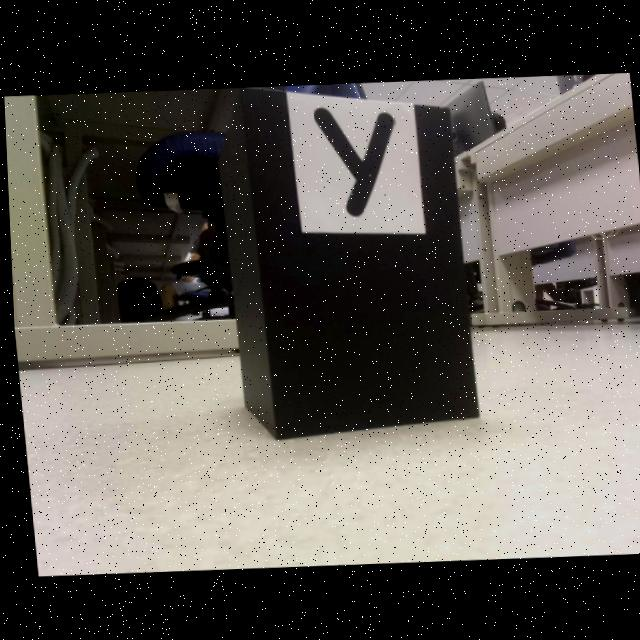Y: (314, 107, 394, 215)
